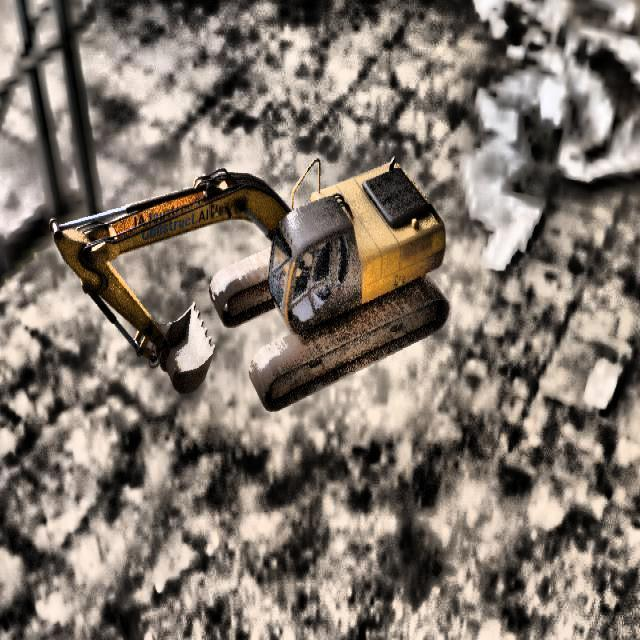excavator: (48, 156, 449, 410)
